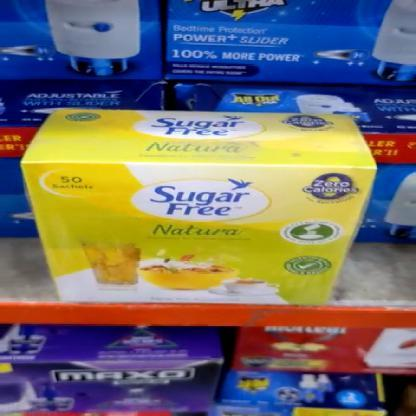SUGAR FREE NATURA SACHET 50: (21, 166, 380, 305)
